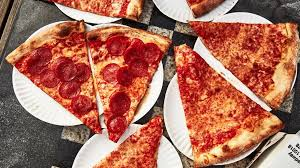pizza: (19, 21, 293, 155)
